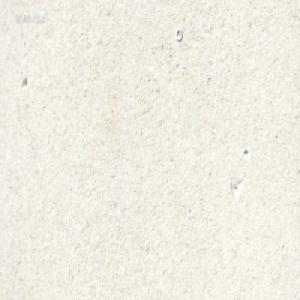Washer: (175, 27, 182, 41)
